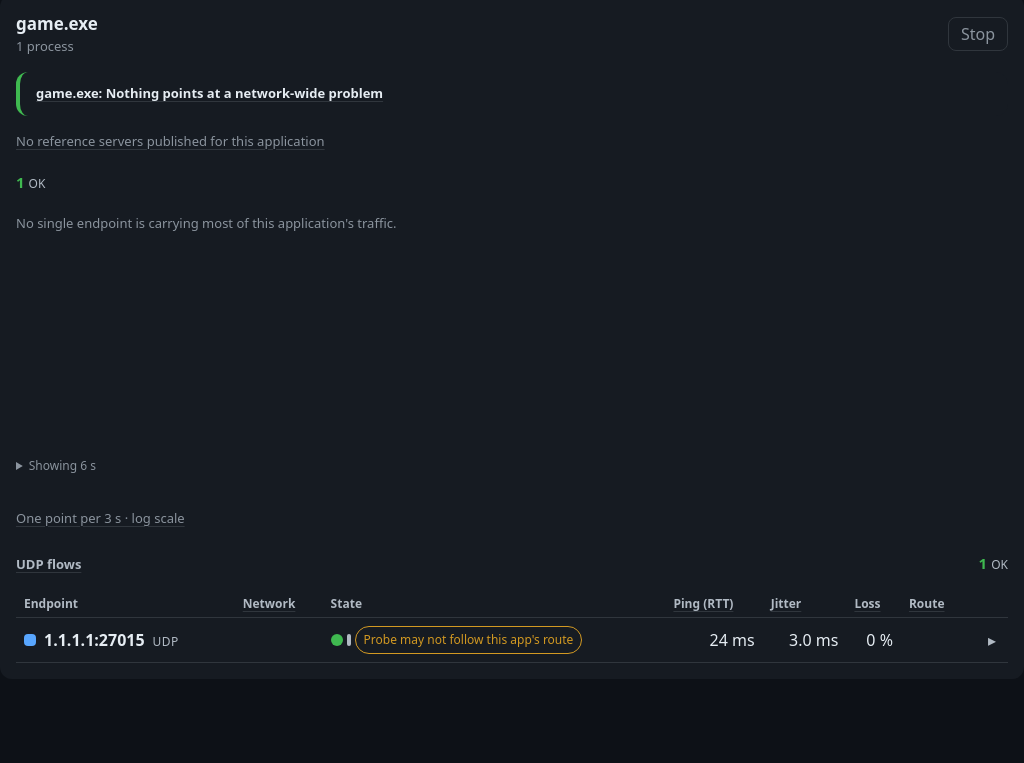
it: AppCard › states what an endpoint could not be measured with rather than showing a bare number
expect the text "Probe may not follow this app's route" is shown: met, box [355,626,582,654]
What coordinates should you click on to do the following:
click the button "▸"
I would click on:
 (992, 640)
Its box is [984,628,1000,652].
(page scrolled)
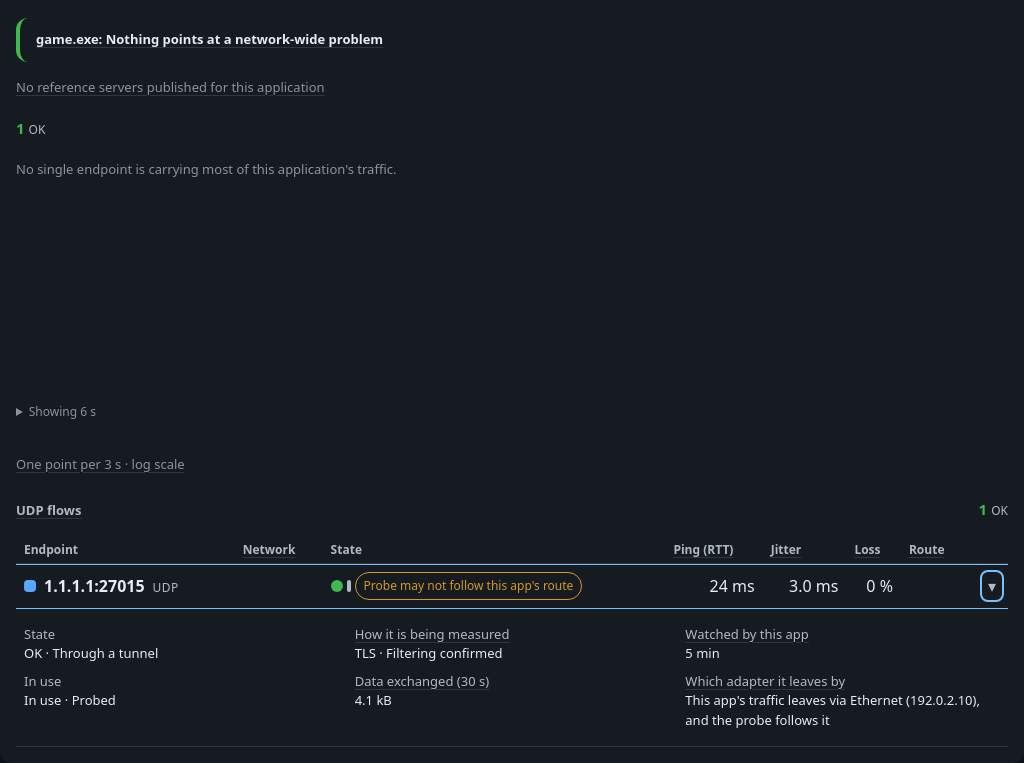
expect the text "OK · Through a tunnel" is shown: met, box [24,644,158,662]
expect the text "TLS · Filtering confirmed" is shown: met, box [355,644,503,662]
expect the text "This app's traffic leaves via Ethernet (192.0.2.10)" is shown: met, box [685,691,980,729]
